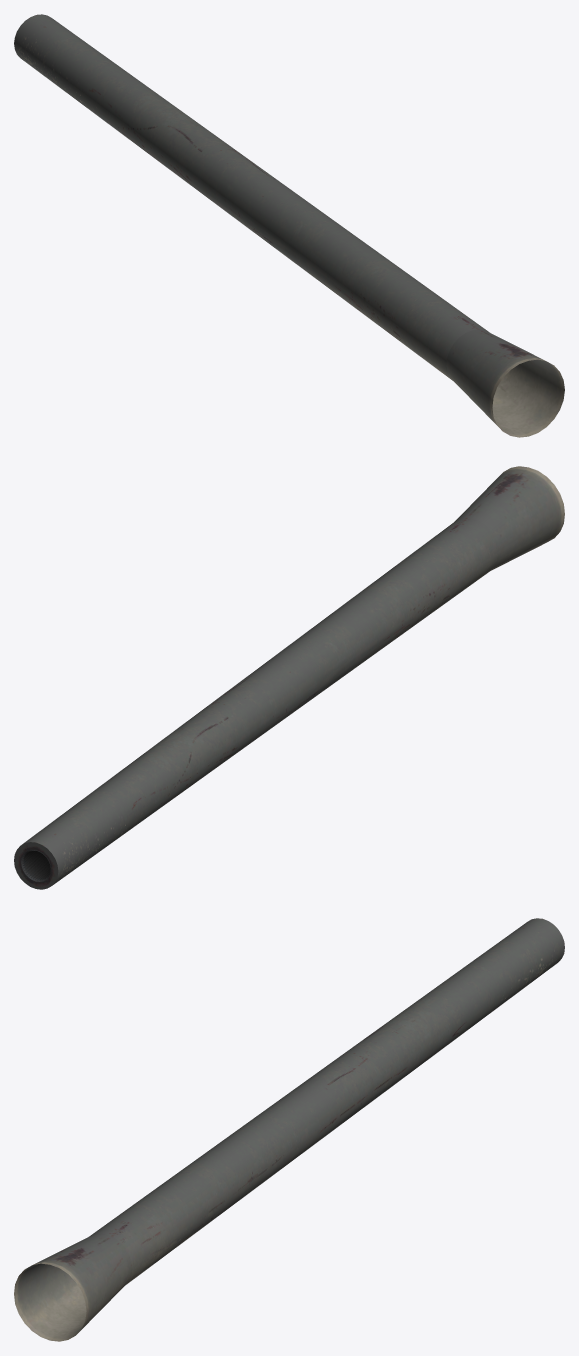
The model's file is gun_barrel.obj.
3 views of the same model, one above another, from view 1: azimuth 30°, elevation 25°; view 2: azimuth 150°, elevation 25°; view 3: azimuth 330°, elevation 25° (orthographic).
Parts seen in each view (by area): view 1: gun_barrel; view 2: gun_barrel; view 3: gun_barrel.
Part boxes in pixels (box(x1,y1,x2,y2)): gun_barrel: box(14, 14, 564, 437); gun_barrel: box(14, 466, 564, 889); gun_barrel: box(14, 918, 564, 1341).
Bounding box in the file's own units: 0.338 × 0.338 × 3.98.
Materials: 1 (1 with a texture image).
